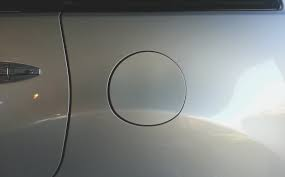closed: (103, 44, 191, 129)
